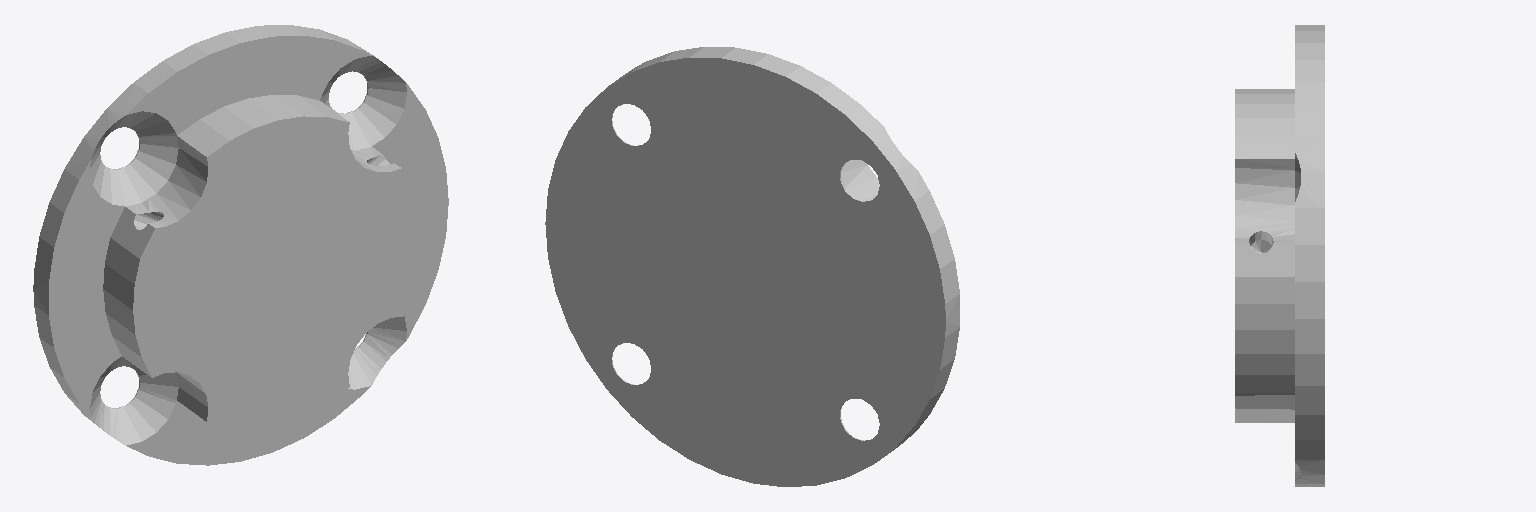
The model's file is ll_dg_mount_c_mesh.obj.
3 renders of one model, left to right at view 1: azimuth 30°, elevation 25°; view 2: azimuth 150°, elevation 25°; view 3: azimuth 270°, elevation 25°, orthographic.
Size of the model in its own units: 0.062 by 0.0619 by 0.012.